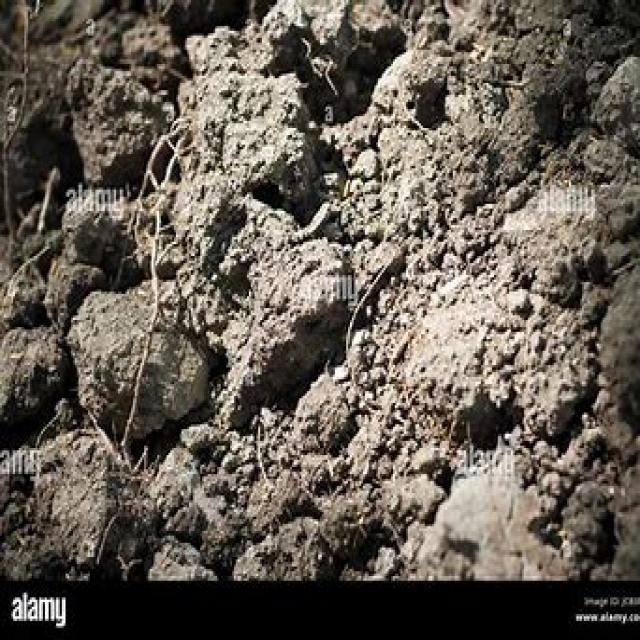Alluvial Soil: (56, 73, 590, 521)
